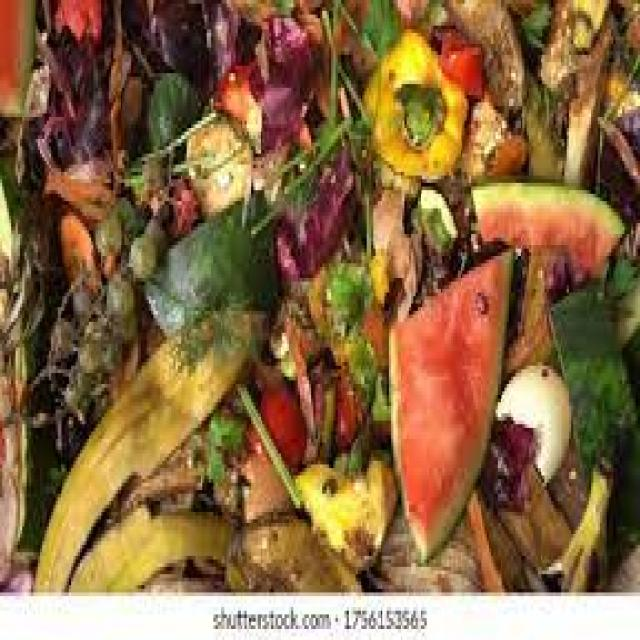Organik: (27, 310, 397, 585), (380, 244, 510, 547), (41, 199, 203, 435), (2, 2, 150, 170), (464, 160, 633, 282), (356, 33, 474, 184), (548, 289, 639, 467), (288, 455, 402, 570), (533, 470, 626, 590), (180, 124, 268, 213), (147, 74, 210, 144)
